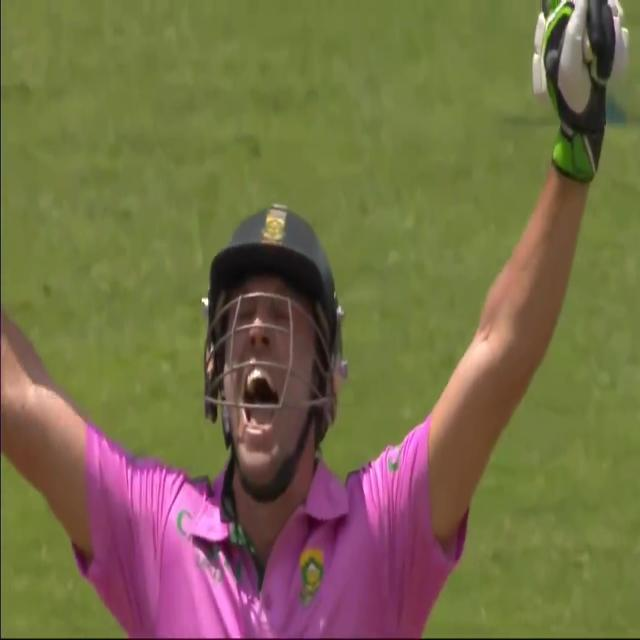Ball: (0, 8, 640, 622)
